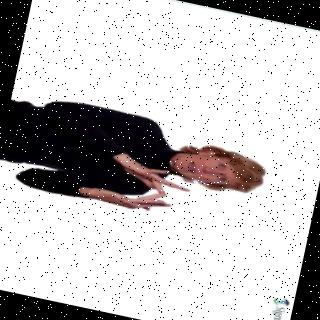Internet: (0, 88, 275, 237)
